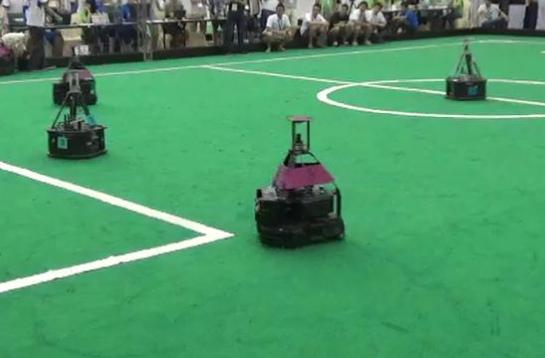robot: (253, 110, 349, 251), (43, 62, 110, 160), (443, 34, 488, 101)
